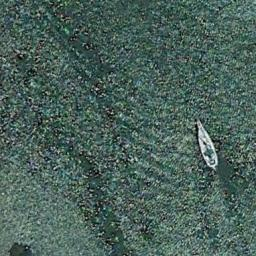boat: (195, 118, 217, 168)
